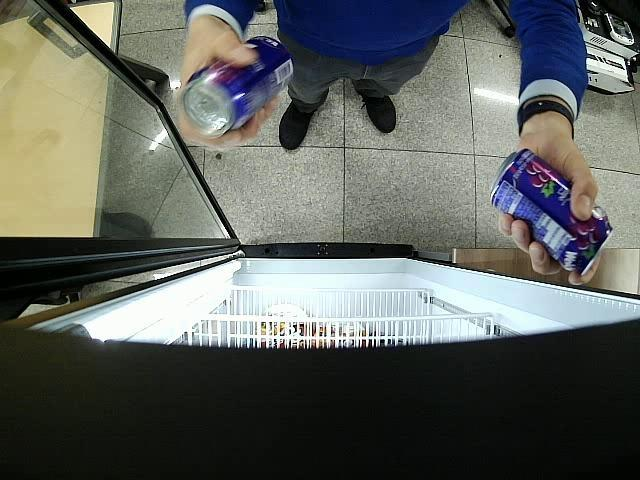14_welchsGrape: (488, 148, 612, 276), (182, 36, 294, 138)
